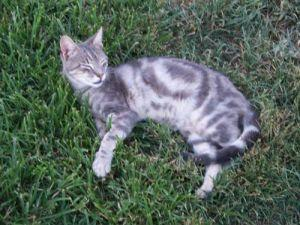bengal: (57, 29, 114, 90)
